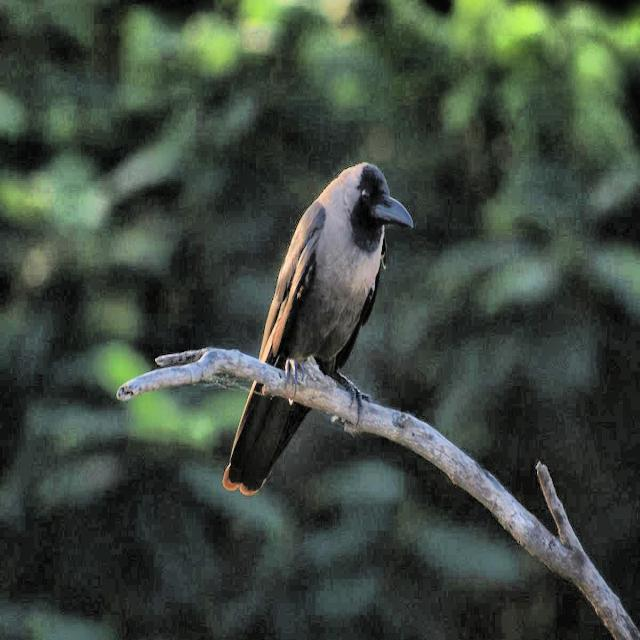crow: (222, 145, 418, 503)
